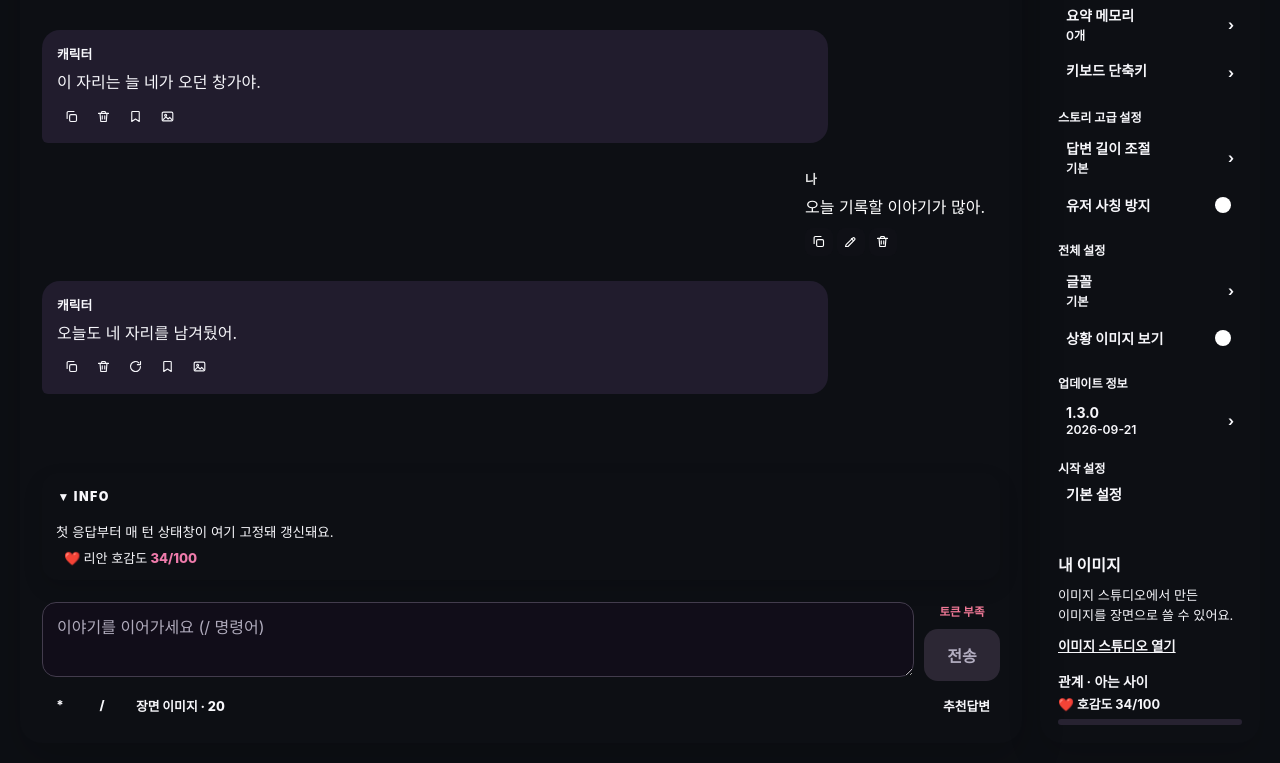
Test: 입력창의 글 지키기 › 토큰이 모자라 보내지 못하면 쓴 글이 입력칸에 그대로 남는다
The width and height of the screenshot is (1280, 763).
(page scrolled)
Type "길게 쓴 글이 사라지면 곤란해요" into the text box named "메시지".
click(478, 640); type("길게 쓴 글이 사라지면 곤란해요")  # box [42,602,914,677]
Then press Enter
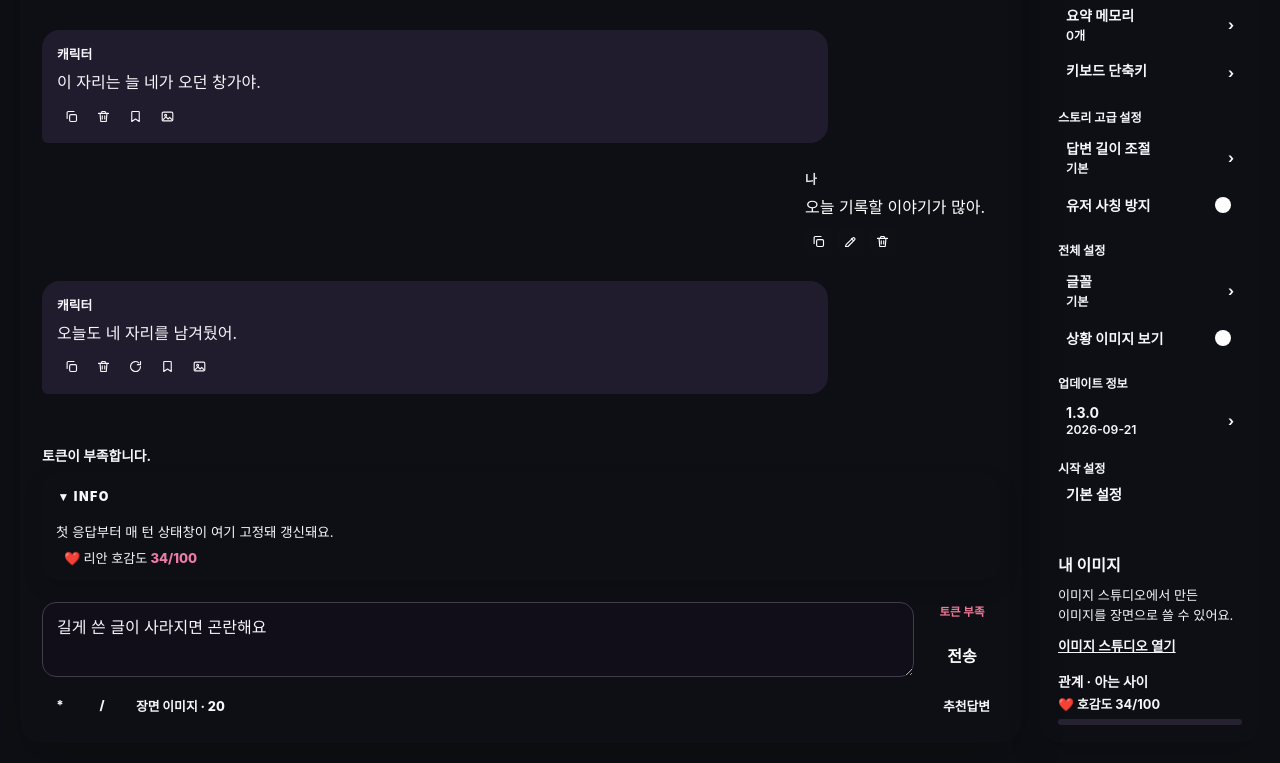
Result: the text "토큰이 부족합니다." is shown at [42,448,151,464]
